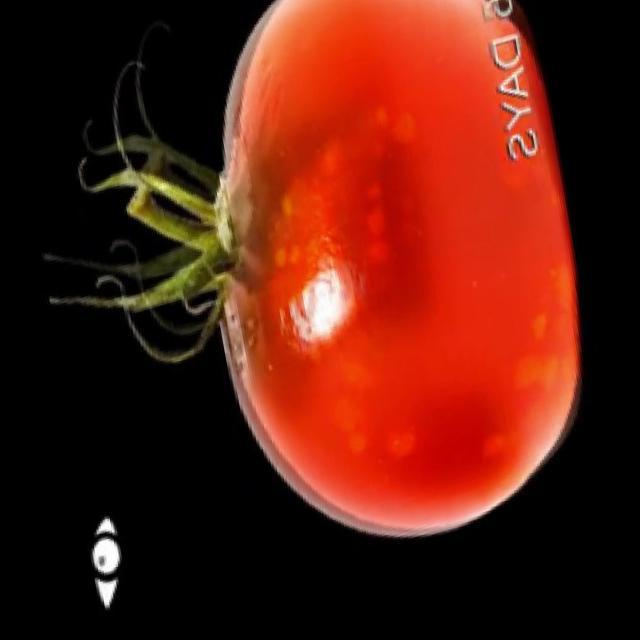tomato: (217, 0, 584, 542)
